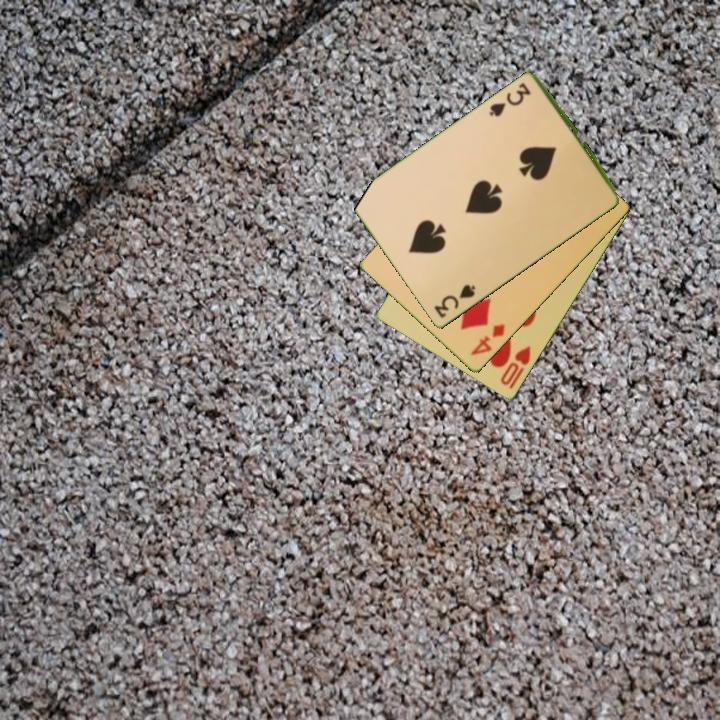10h: (497, 343, 534, 392)
3s: (486, 79, 534, 120), (430, 281, 478, 321)
4d: (467, 321, 508, 359)
